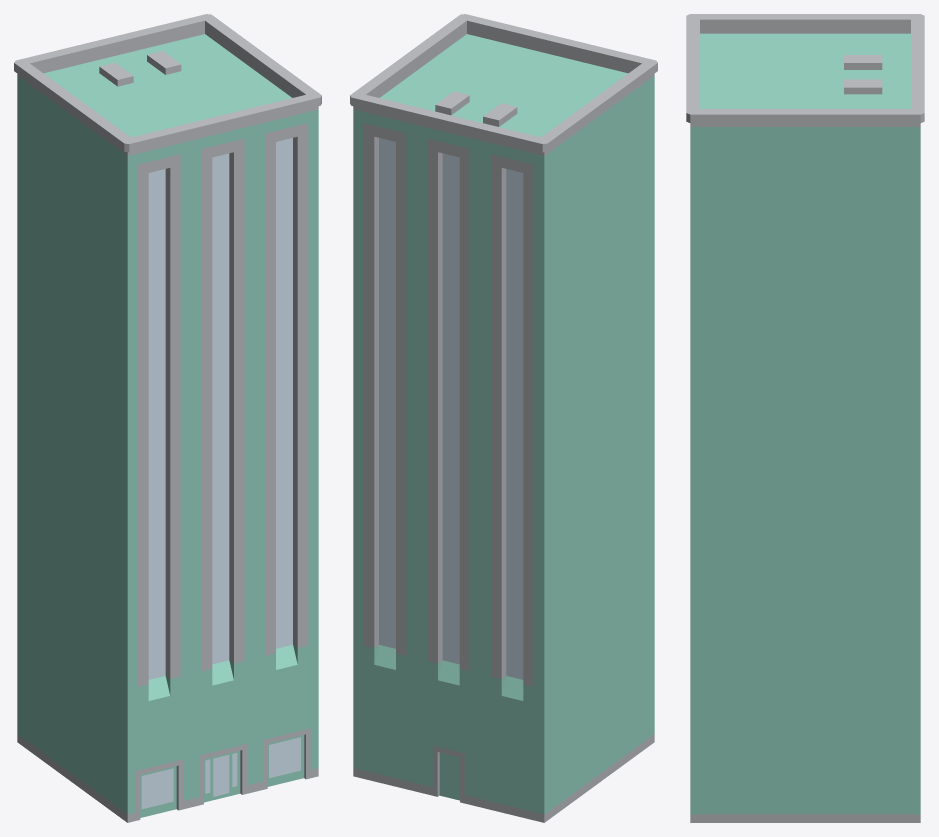
File: skyscraperF1.glb
3 renders of one model, left to right at view 1: azimuth 30°, elevation 25°; view 2: azimuth 150°, elevation 25°; view 3: azimuth 270°, elevation 25°, orthographic. The views are drawn at different scales.
Visible parts, largest first — view 1: skyscraperF1; view 2: skyscraperF1; view 3: skyscraperF1.
Part boxes in pixels (box(x1,y1,x2,y2)): skyscraperF1: box(14, 14, 321, 822); skyscraperF1: box(350, 14, 657, 822); skyscraperF1: box(686, 14, 924, 822).
Bounding box in the file's own units: 1.24 × 4.08 × 1.24.
2 materials, 1 textured.
